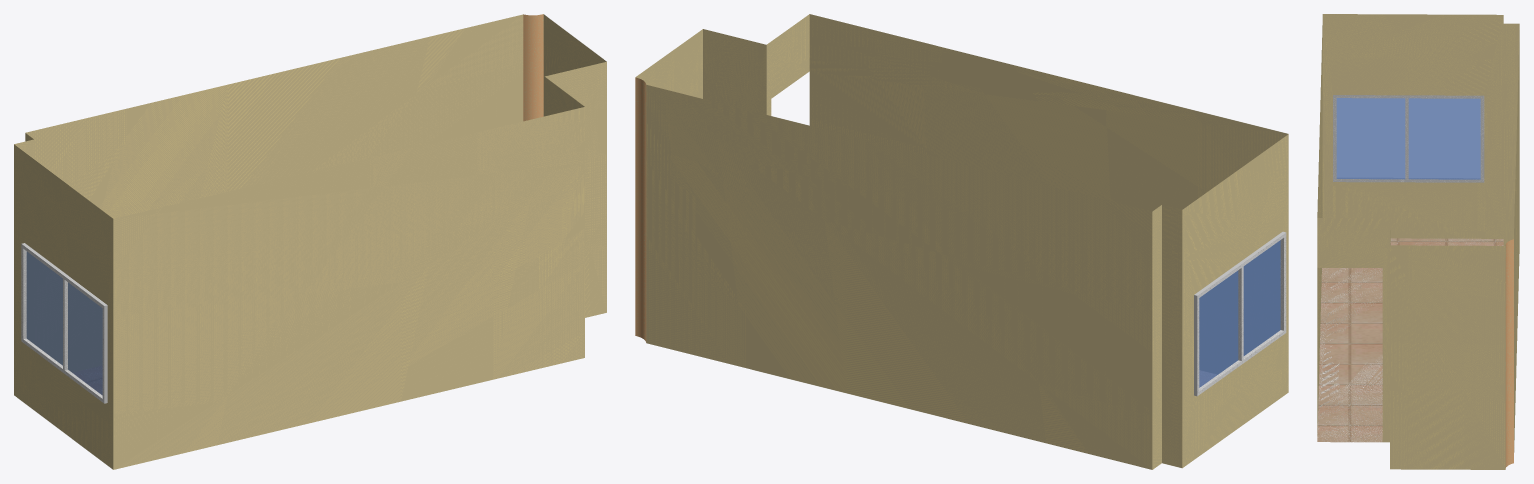
The model's file is DES024.obj.
3 views of the same model, side by side, from view 1: azimuth 30°, elevation 25°; view 2: azimuth 150°, elevation 25°; view 3: azimuth 270°, elevation 25° (orthographic). The views are drawn at different scales.
Parts seen in each view (by area): view 1: Mesh6 DES024 Model, Mesh1 ventana2_1 DES024 Model; view 2: Mesh6 DES024 Model, Mesh1 ventana2_1 DES024 Model; view 3: Mesh6 DES024 Model, Mesh1 ventana2_1 DES024 Model.
Boxes of the visible parts, x1,y1,x2,y2 form: Mesh6 DES024 Model: [14, 14, 606, 469]; Mesh1 ventana2_1 DES024 Model: [21, 243, 107, 403]; Mesh6 DES024 Model: [635, 14, 1288, 469]; Mesh1 ventana2_1 DES024 Model: [1194, 231, 1286, 396]; Mesh6 DES024 Model: [1317, 14, 1519, 469]; Mesh1 ventana2_1 DES024 Model: [1333, 95, 1484, 182].
Bounding box in the file's own units: 8.04 × 3.6 × 2.95.
9 materials, 2 textured.
